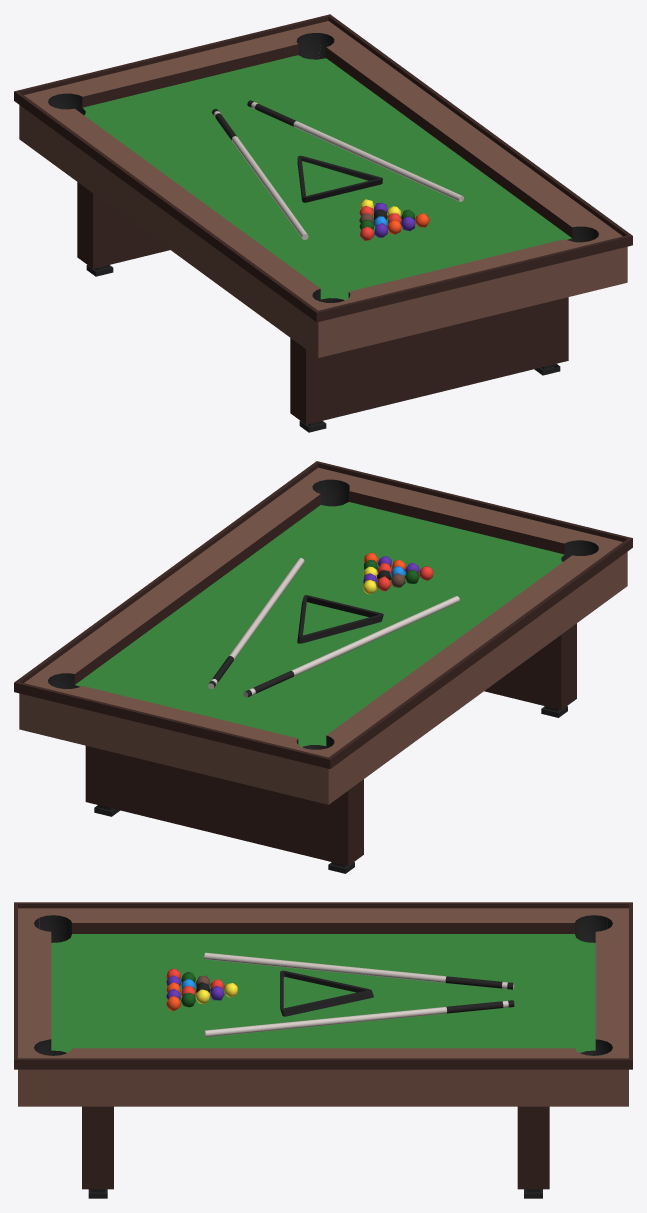
3 views of the same model, one above another, from view 1: azimuth 30°, elevation 25°; view 2: azimuth 150°, elevation 25°; view 3: azimuth 270°, elevation 25° (orthographic). The views are drawn at different scales.
Visible parts, largest first — view 1: entertainment_001; view 2: entertainment_001; view 3: entertainment_001.
Part boxes in pixels (x1,y1,x2,y2): entertainment_001: (14, 14, 632, 432); entertainment_001: (14, 461, 632, 873); entertainment_001: (14, 902, 632, 1198).
Bounding box in the file's own units: 2.1 × 0.9753 × 3.49.
Materials: 1 (1 with a texture image).
